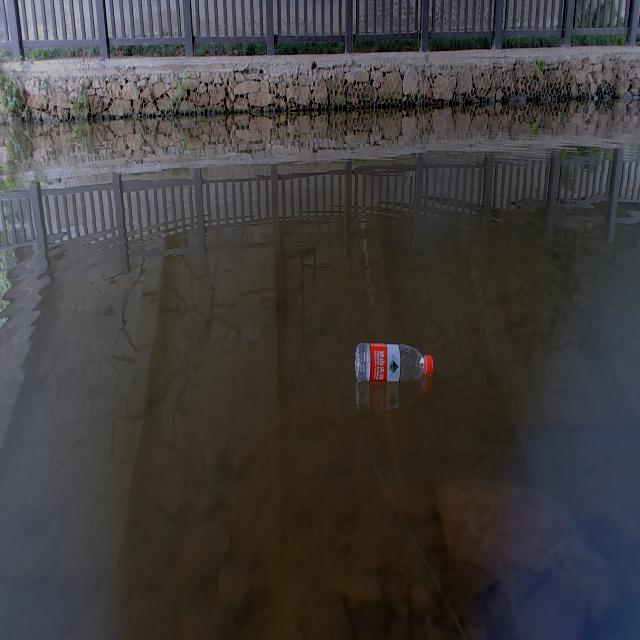bottle: (338, 316, 456, 411)
